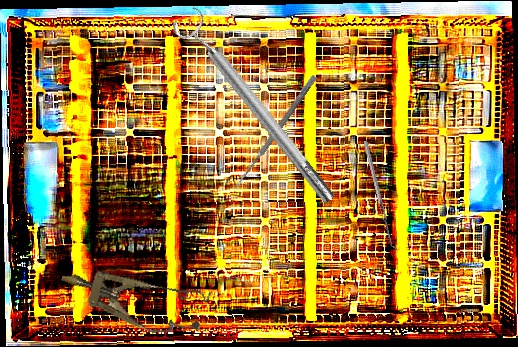Fixation Ring: (168, 3, 344, 213)
Spatula Surgical: (363, 139, 399, 253)
Speculum: (54, 250, 212, 346)
Surgical Spoon: (232, 73, 318, 192)
